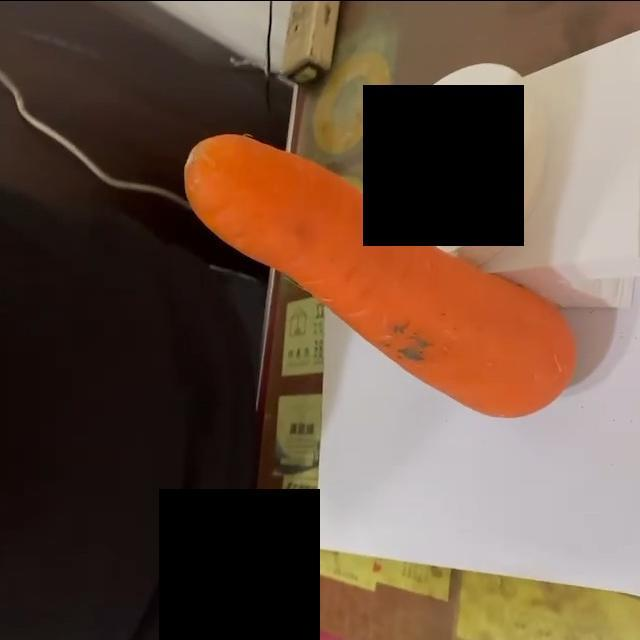carrot: (181, 132, 585, 421)
